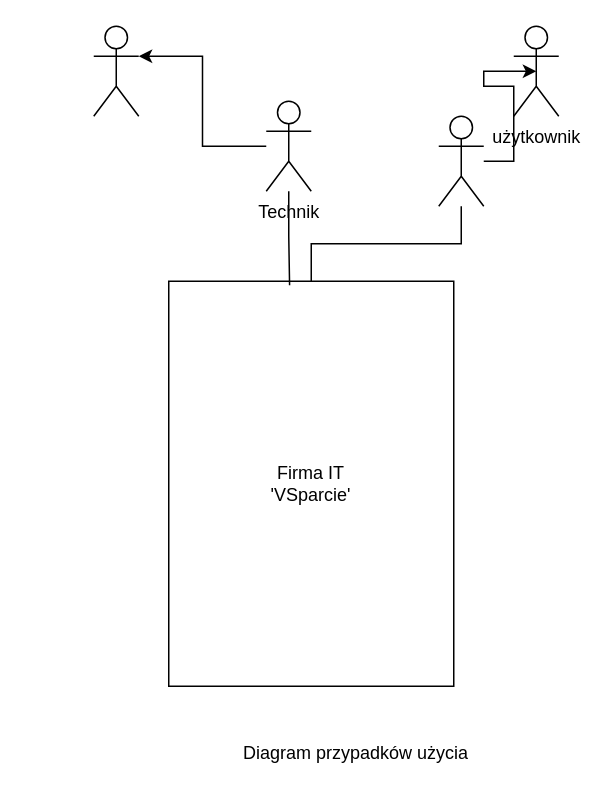
The diagram is 606 pixels wide and 803 high, and some of its shapes have lost their labels. Each missing label, with the centre of its shape:
"Administrator Systemu" belongs at [115,70].
"Recepcjonistka" belongs at [460,160].
